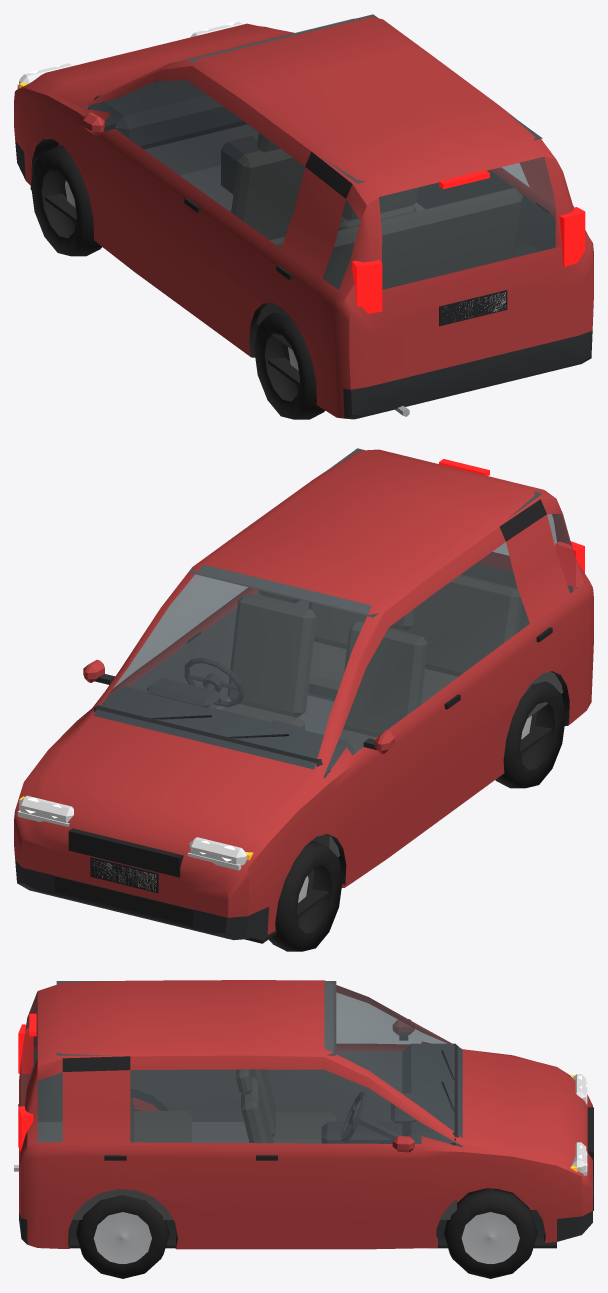
Rendered from hatchback_lod1.glb.
3 views of the same model, one above another, from view 1: azimuth 30°, elevation 25°; view 2: azimuth 150°, elevation 25°; view 3: azimuth 270°, elevation 25° (orthographic). The views are drawn at different scales.
Visible parts, largest first — view 1: car_body, wheel_fl, wheel_rl; view 2: car_body, wheel_fl, wheel_rl; view 3: car_body, wheel_fr, wheel_rr.
Part boxes in pixels (x1,y1,x2,y2): car_body: (14,14,593,419); wheel_fl: (31,145,101,256); wheel_rl: (254,312,325,419); car_body: (14,448,593,943); wheel_fl: (268,841,342,951); wheel_rl: (495,681,565,788); car_body: (14,980,593,1249); wheel_fr: (443,1188,537,1278); wheel_rr: (76,1195,169,1278).
Size of the model in its own units: 1.98 by 1.62 by 3.94.
